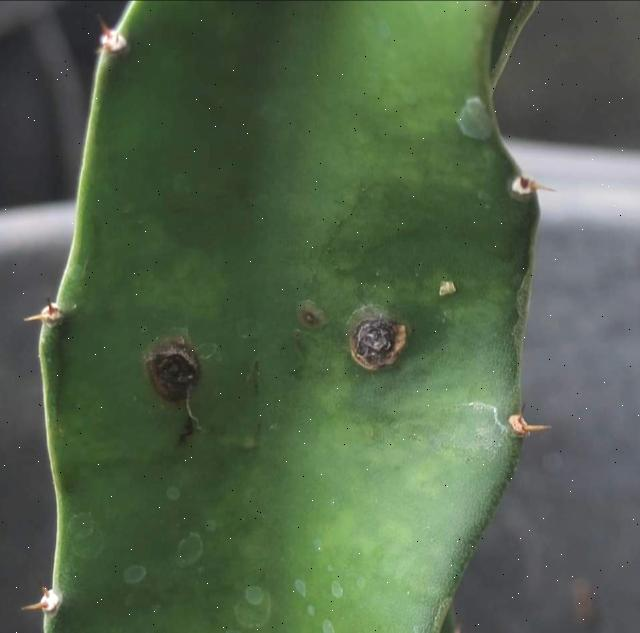stemcanker: (40, 2, 543, 633)
